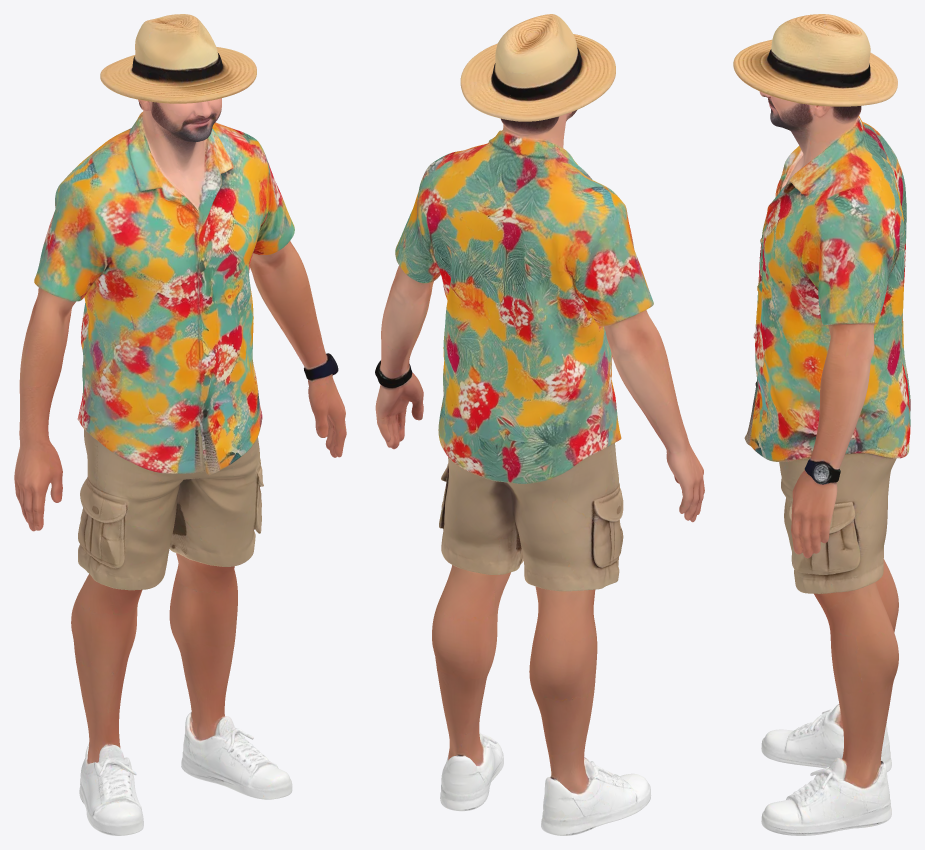
Rendered from tourist.glb.
The picture shows the model from 3 angles, left to right: view 1: azimuth 30°, elevation 25°; view 2: azimuth 150°, elevation 25°; view 3: azimuth 270°, elevation 25°; orthographic projection.
Bounding box in the file's own units: 0.8181 × 1.9 × 0.3945.
Materials: 1 (1 with a texture image).
